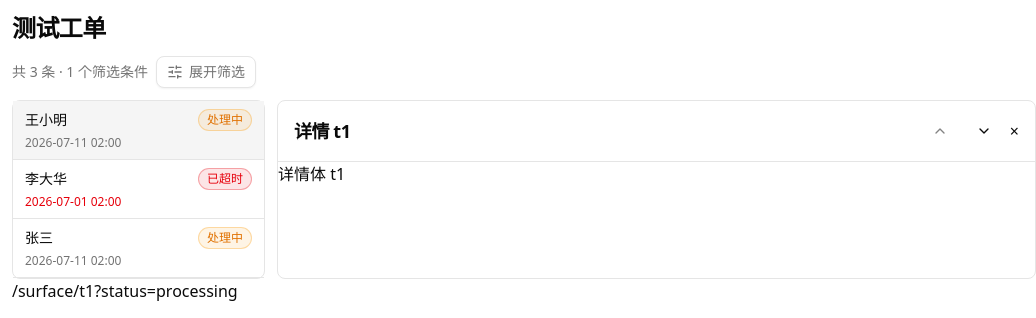
筛选折叠（处理态） › 默认收起为摘要，展开后筛选器回到位，再收起
Expected: the element named "工单详情" shows "详情 t1", 294,119 -> 350,143
Expected: the text "共 3 条 · 1 个筛选条件" is shown, 12,62 -> 148,82
Click the button "展开筛选" at (206, 72), box 156,56 -> 256,88
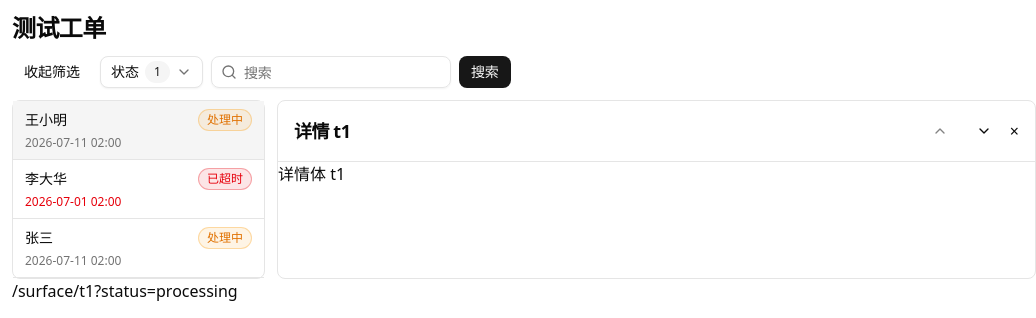
Now the button "状态 1" is shown, box 100,56 -> 203,88
Click the button "收起筛选" at (52, 72), box 12,56 -> 92,88
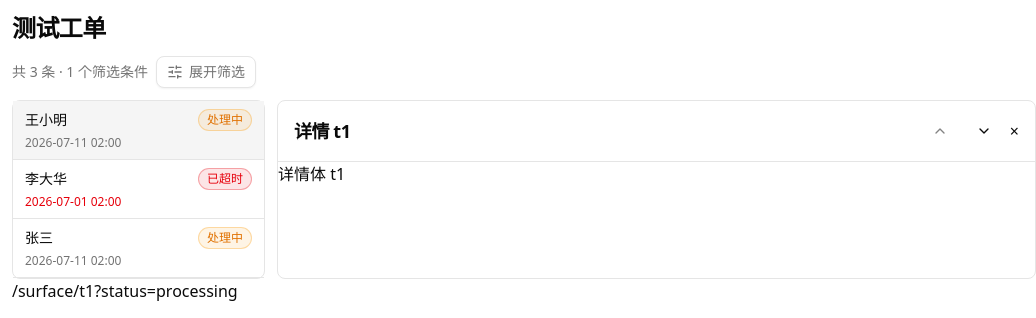
Now the button "状态" is gone
